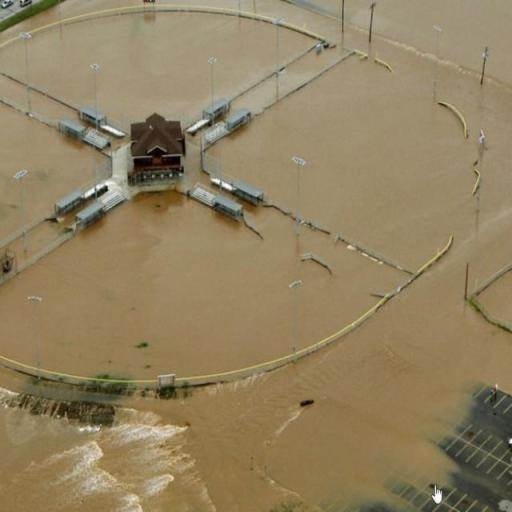flood: (0, 210, 512, 512), (0, 192, 409, 380), (209, 34, 512, 269), (28, 11, 317, 132), (0, 104, 107, 265), (374, 0, 512, 84), (0, 0, 141, 80), (156, 0, 342, 43), (232, 48, 343, 112), (481, 273, 512, 321), (30, 91, 78, 119), (346, 0, 372, 50), (0, 77, 26, 107), (308, 0, 342, 17)
house: (130, 111, 186, 183)
